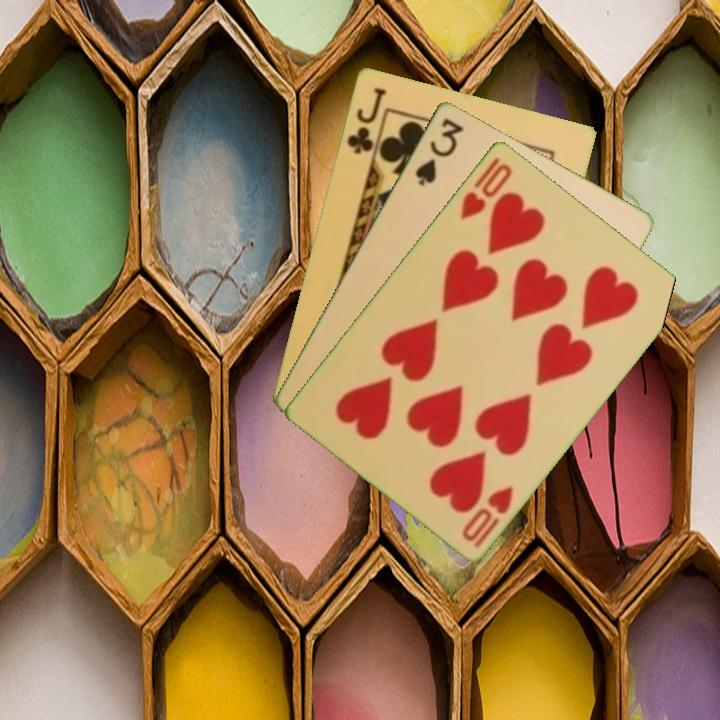10h: (455, 153, 515, 223), (458, 481, 517, 551)
3s: (411, 114, 467, 189)
Jc: (343, 83, 389, 156)
